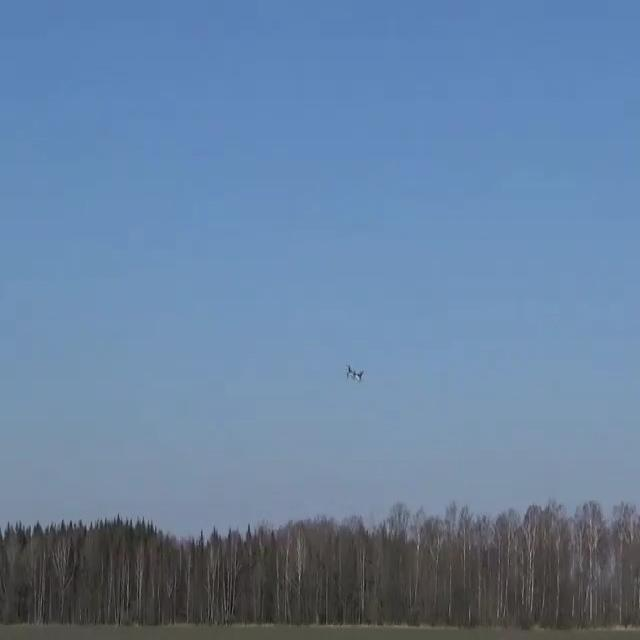drone: (344, 364, 363, 380)
